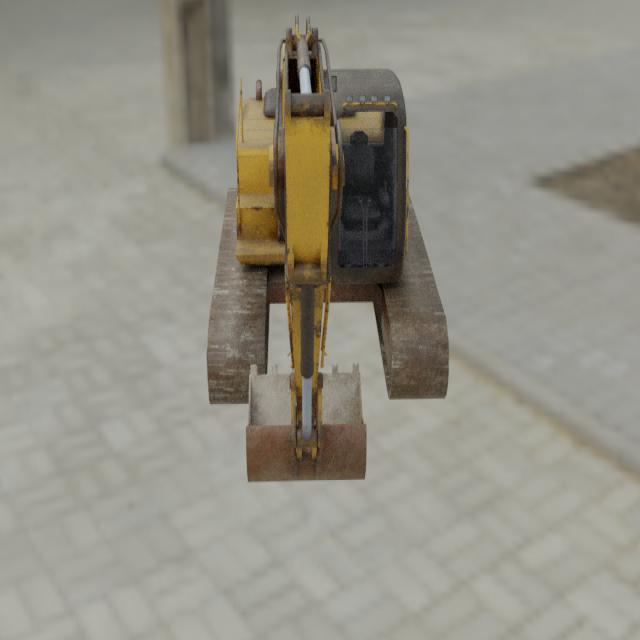excavator: (205, 12, 449, 483)
